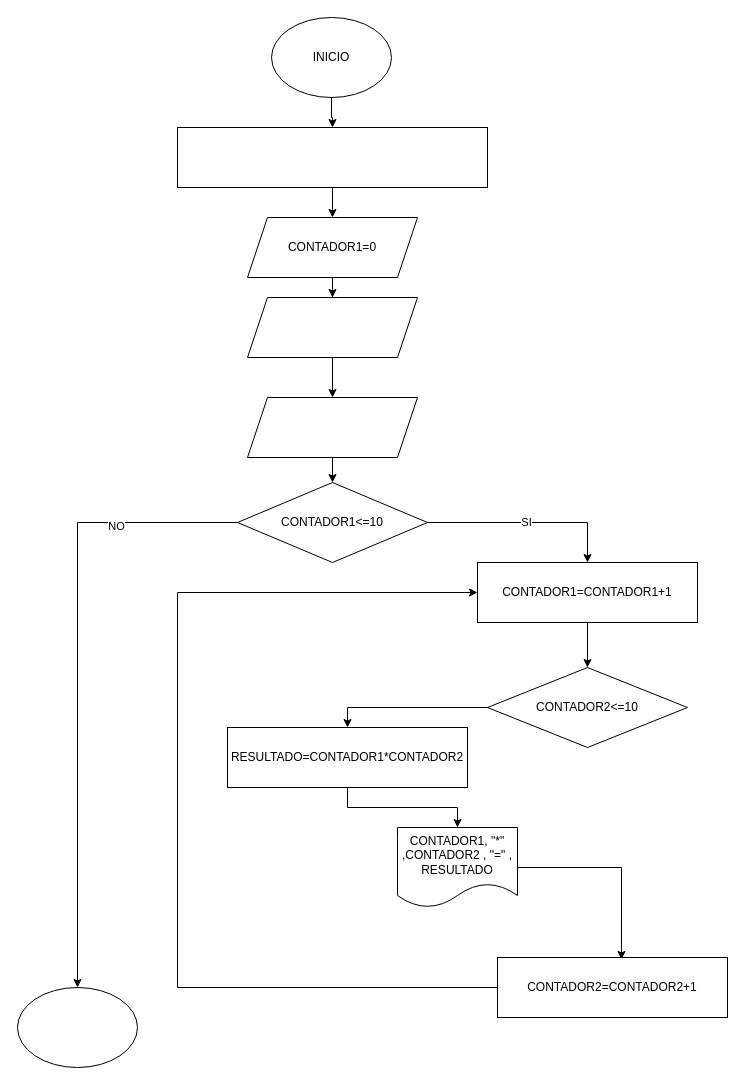
Image size: 745x1085. Some labels were removed from this diagram. The box of each missing label's shape, as (x1, y1, x2, y2) in pixels:
CONTADOR(INT),CONTADOR2(INT),RESULTADO(INT): (176, 126, 488, 188)
CONTADOR2=1: (246, 296, 418, 358)
FIN: (16, 986, 138, 1068)
RESULTADO=0: (246, 396, 418, 458)
